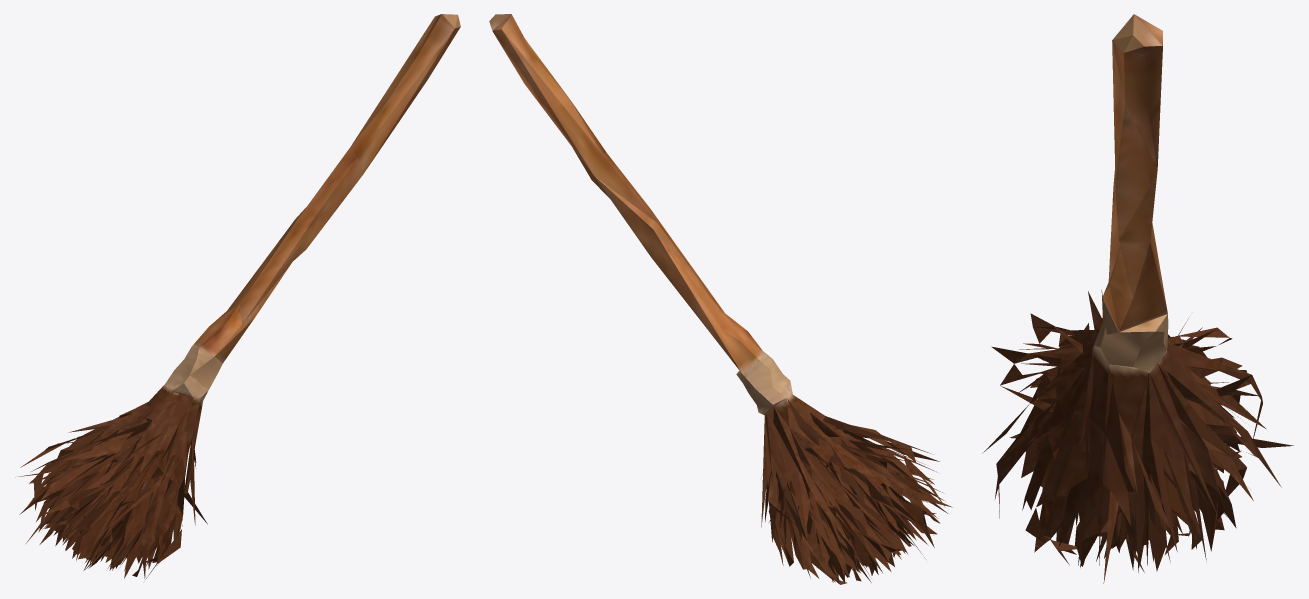
The model's file is at-kili-firca.glb.
3 renders of one model, left to right at view 1: azimuth 30°, elevation 25°; view 2: azimuth 150°, elevation 25°; view 3: azimuth 270°, elevation 25°, orthographic. The views are drawn at different scales.
Visible parts, largest first — view 1: output_unwrapped; view 2: output_unwrapped; view 3: output_unwrapped.
Part boxes in pixels (bbox=[...]): output_unwrapped: bbox=[15, 14, 460, 579]; output_unwrapped: bbox=[489, 14, 952, 584]; output_unwrapped: bbox=[982, 14, 1293, 583].
Bounding box in the file's own units: 1.79 × 1.88 × 0.6399.
1 material, 1 textured.
